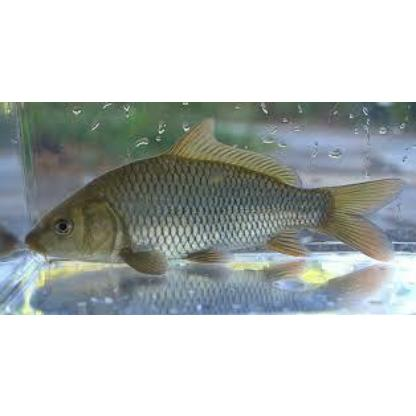ikan-mas: (26, 136, 395, 274)
